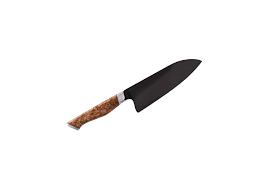Knife: (66, 58, 202, 130)
